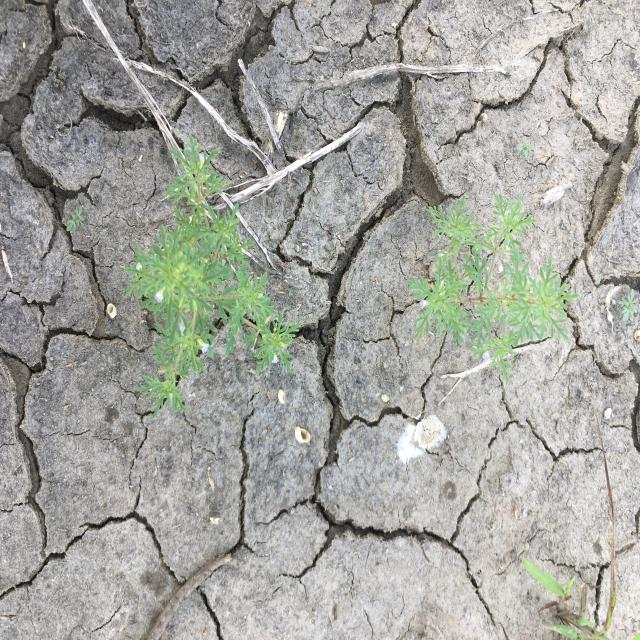Ragweed: (122, 131, 304, 422), (404, 191, 581, 388), (617, 288, 639, 326), (64, 204, 86, 232)
